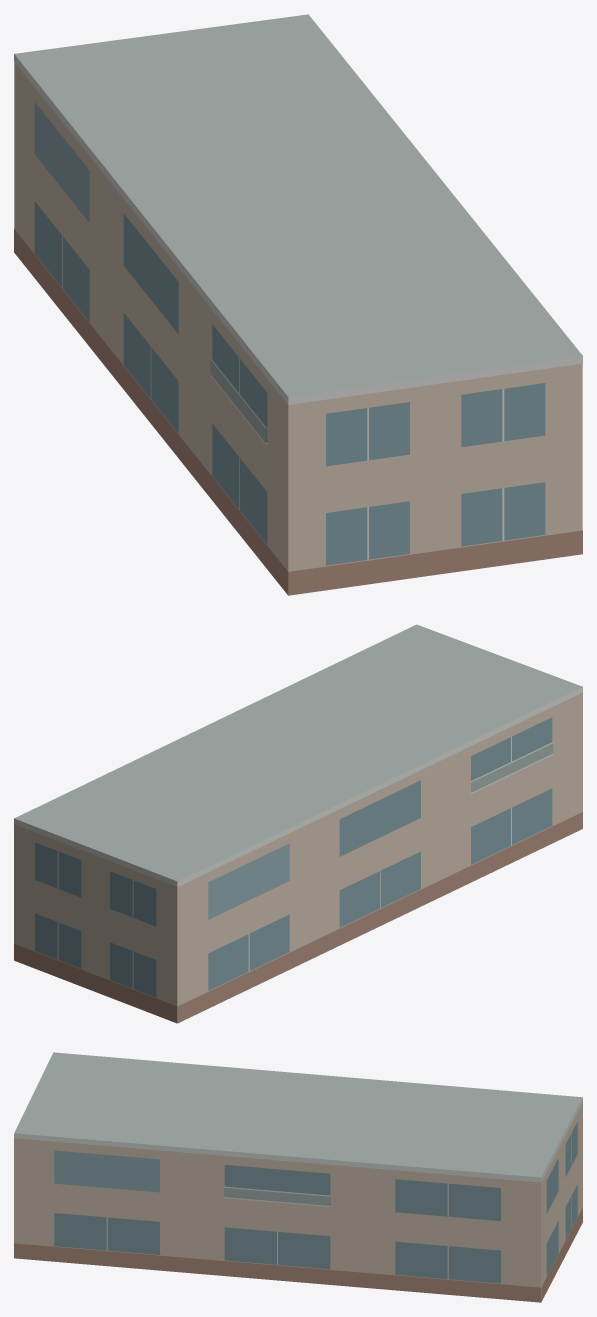
File: survey-upis-32968554.glb
3 views of the same model, one above another, from view 1: azimuth 30°, elevation 25°; view 2: azimuth 150°, elevation 25°; view 3: azimuth 270°, elevation 25° (orthographic). The views are drawn at different scales.
Parts seen in each view (by area): view 1: survey-upis-32968554.tmp; view 2: survey-upis-32968554.tmp; view 3: survey-upis-32968554.tmp.
Boxes of the visible parts, x1,y1,x2,y2 form: survey-upis-32968554.tmp: [14, 14, 582, 595]; survey-upis-32968554.tmp: [14, 624, 582, 1023]; survey-upis-32968554.tmp: [14, 1052, 582, 1302].
Bounding box in the file's own units: 13.11 × 6.1 × 25.16.
